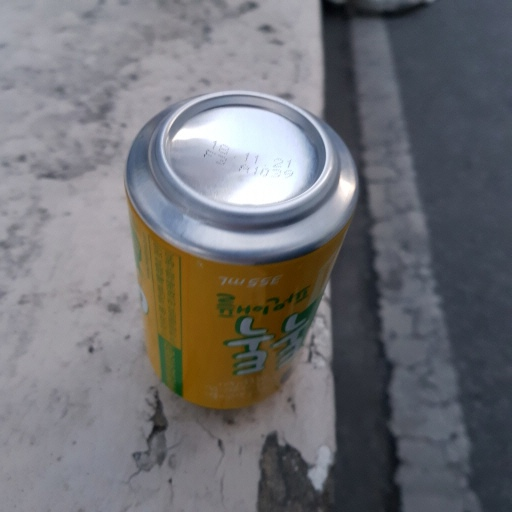Metal_0: (122, 91, 363, 415)
